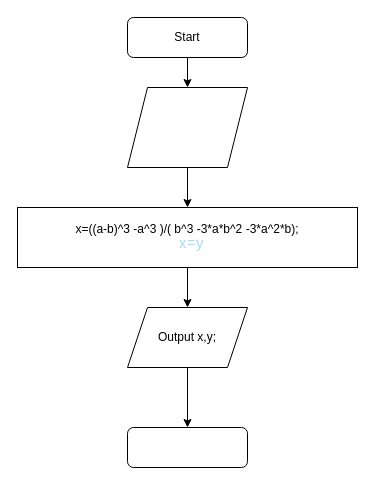
The diagram is 375 pixels wide and 485 high, and some of its shapes have lost their labels. The centre of each missing label's shape, as x and y in pixels:
End: point (187, 447)
Input a=1000; b=0,0001; float x; double y;: point (187, 127)
